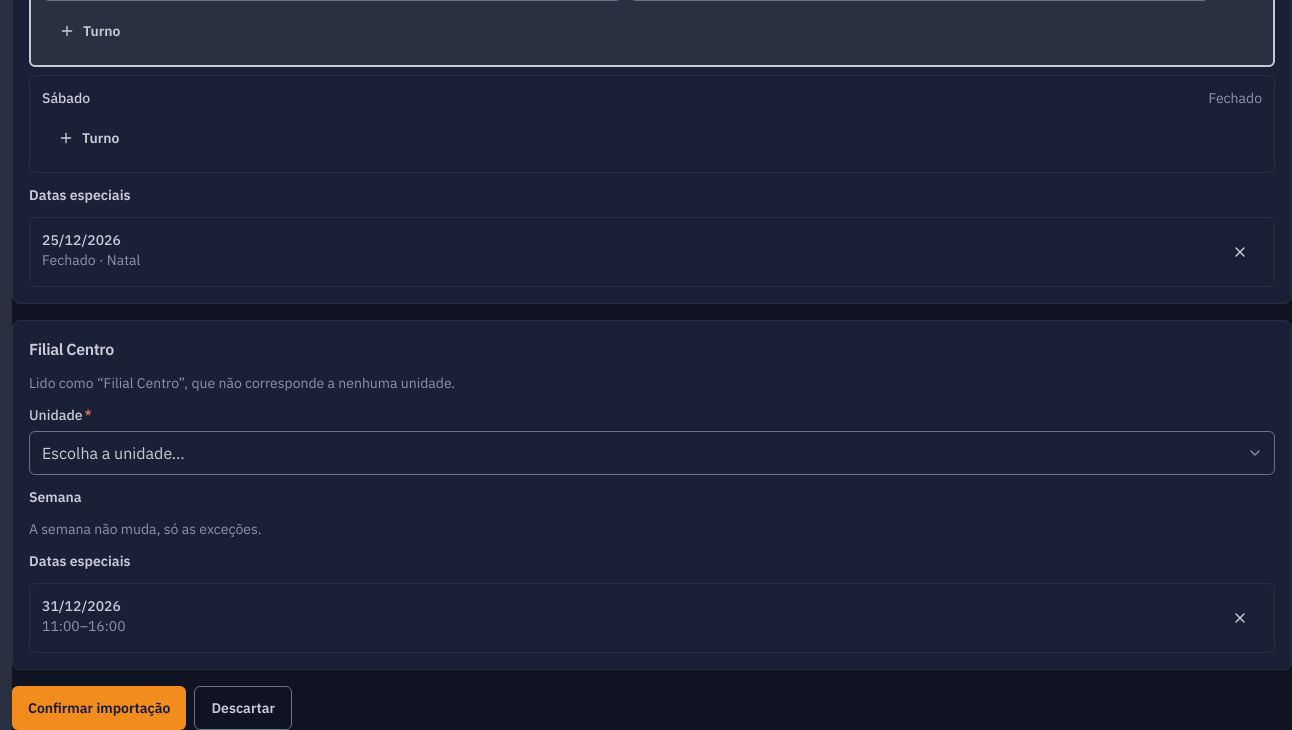
Test: RevisaoHorarios › unidade não reconhecida: confirmar sem escolher é recusado na tela (Review Focus 1)
(page scrolled)
Click the button "Confirmar importação".
click(99, 708)  # box [12,686,186,729]
(page scrolled)
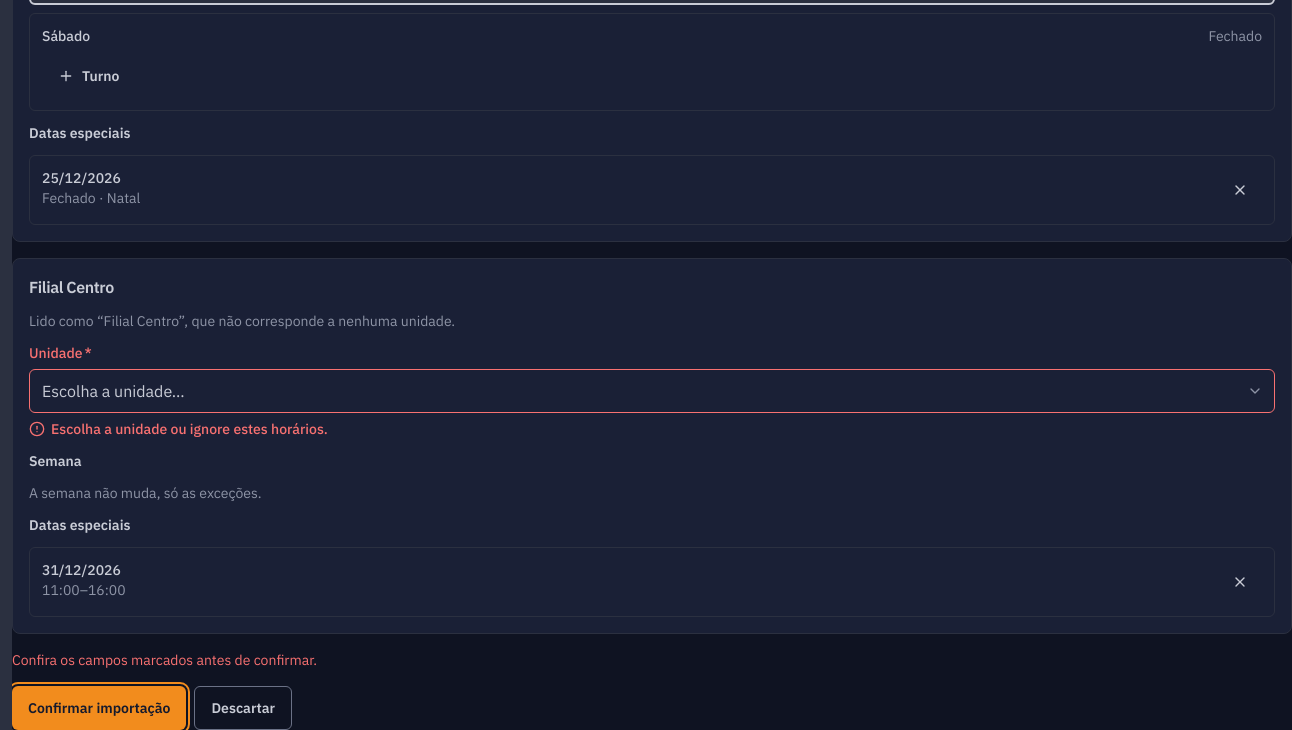
Now the text "Escolha a unidade ou ignore estes horários." is shown, box [29,420,328,438]
Now the message reads "Confira os campos marcados antes de confirmar.", box [12,651,317,669]
